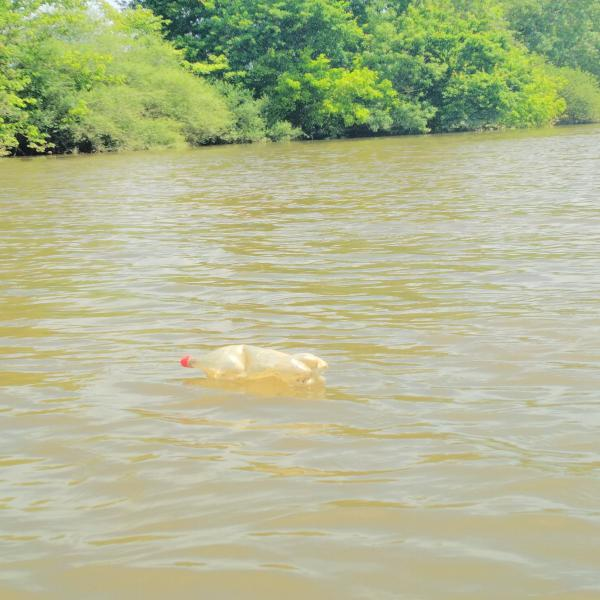bottles: (176, 344, 330, 383)
